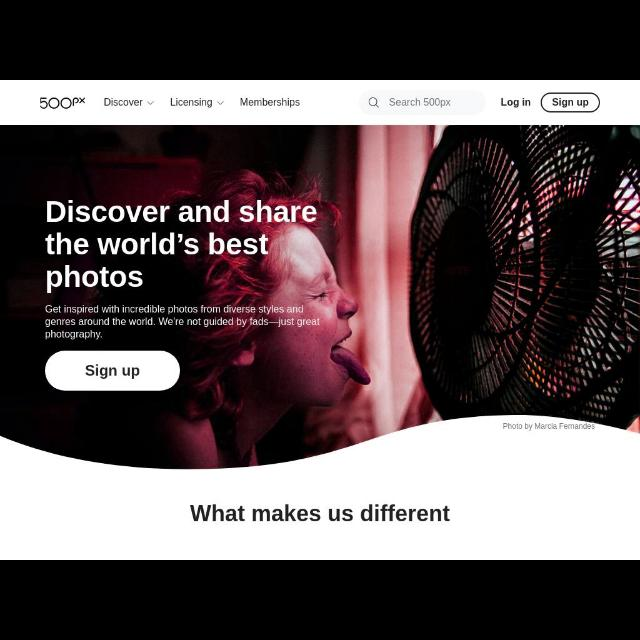icon: (368, 96, 379, 108), (148, 100, 154, 106), (218, 100, 224, 106)
image: (2, 125, 640, 469), (39, 95, 85, 112)
input: (360, 92, 486, 114)
spinner: (170, 97, 227, 109), (103, 95, 155, 108)
text: (48, 196, 318, 290), (46, 304, 320, 338), (190, 502, 450, 524), (388, 96, 452, 108), (504, 423, 596, 429), (170, 97, 213, 107), (242, 98, 302, 105), (501, 96, 532, 108), (105, 98, 144, 106)
textbutton: (44, 349, 180, 391), (542, 94, 600, 112)
